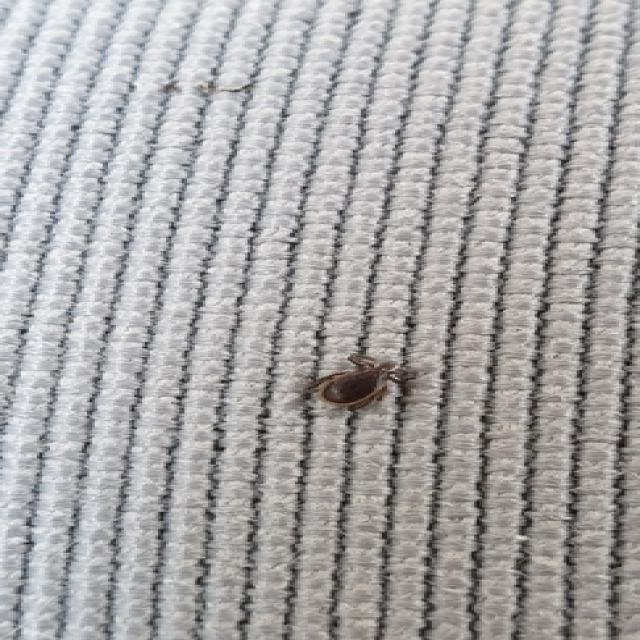Ixodes Ricinus-M: (308, 355, 424, 415)
